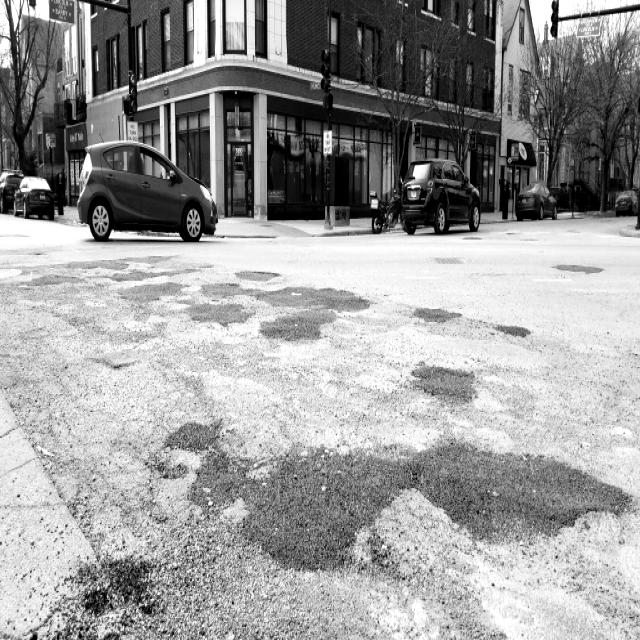pathole: (67, 547, 154, 640)
